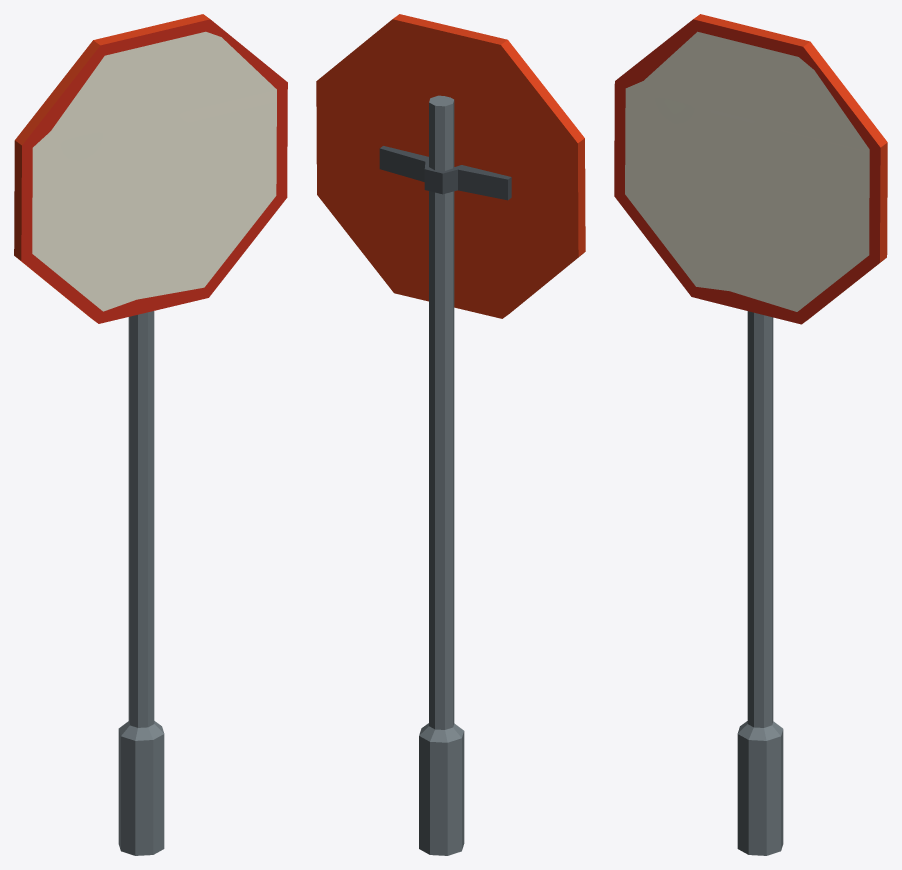
The model's file is Sign_Speed.fbx.
3 views of the same model, side by side, from view 1: azimuth 30°, elevation 25°; view 2: azimuth 150°, elevation 25°; view 3: azimuth 330°, elevation 25° (orthographic).
Parts seen in each view (by area): view 1: SM_Prop_Sign_Stop_01; view 2: SM_Prop_Sign_Stop_01; view 3: SM_Prop_Sign_Stop_01.
Boxes of the visible parts, <box> form: SM_Prop_Sign_Stop_01: <box>14,14,287,855</box>; SM_Prop_Sign_Stop_01: <box>316,14,585,855</box>; SM_Prop_Sign_Stop_01: <box>614,14,887,855</box>.
Size of the model in its own units: 0.7691 by 2.27 by 0.1249.
